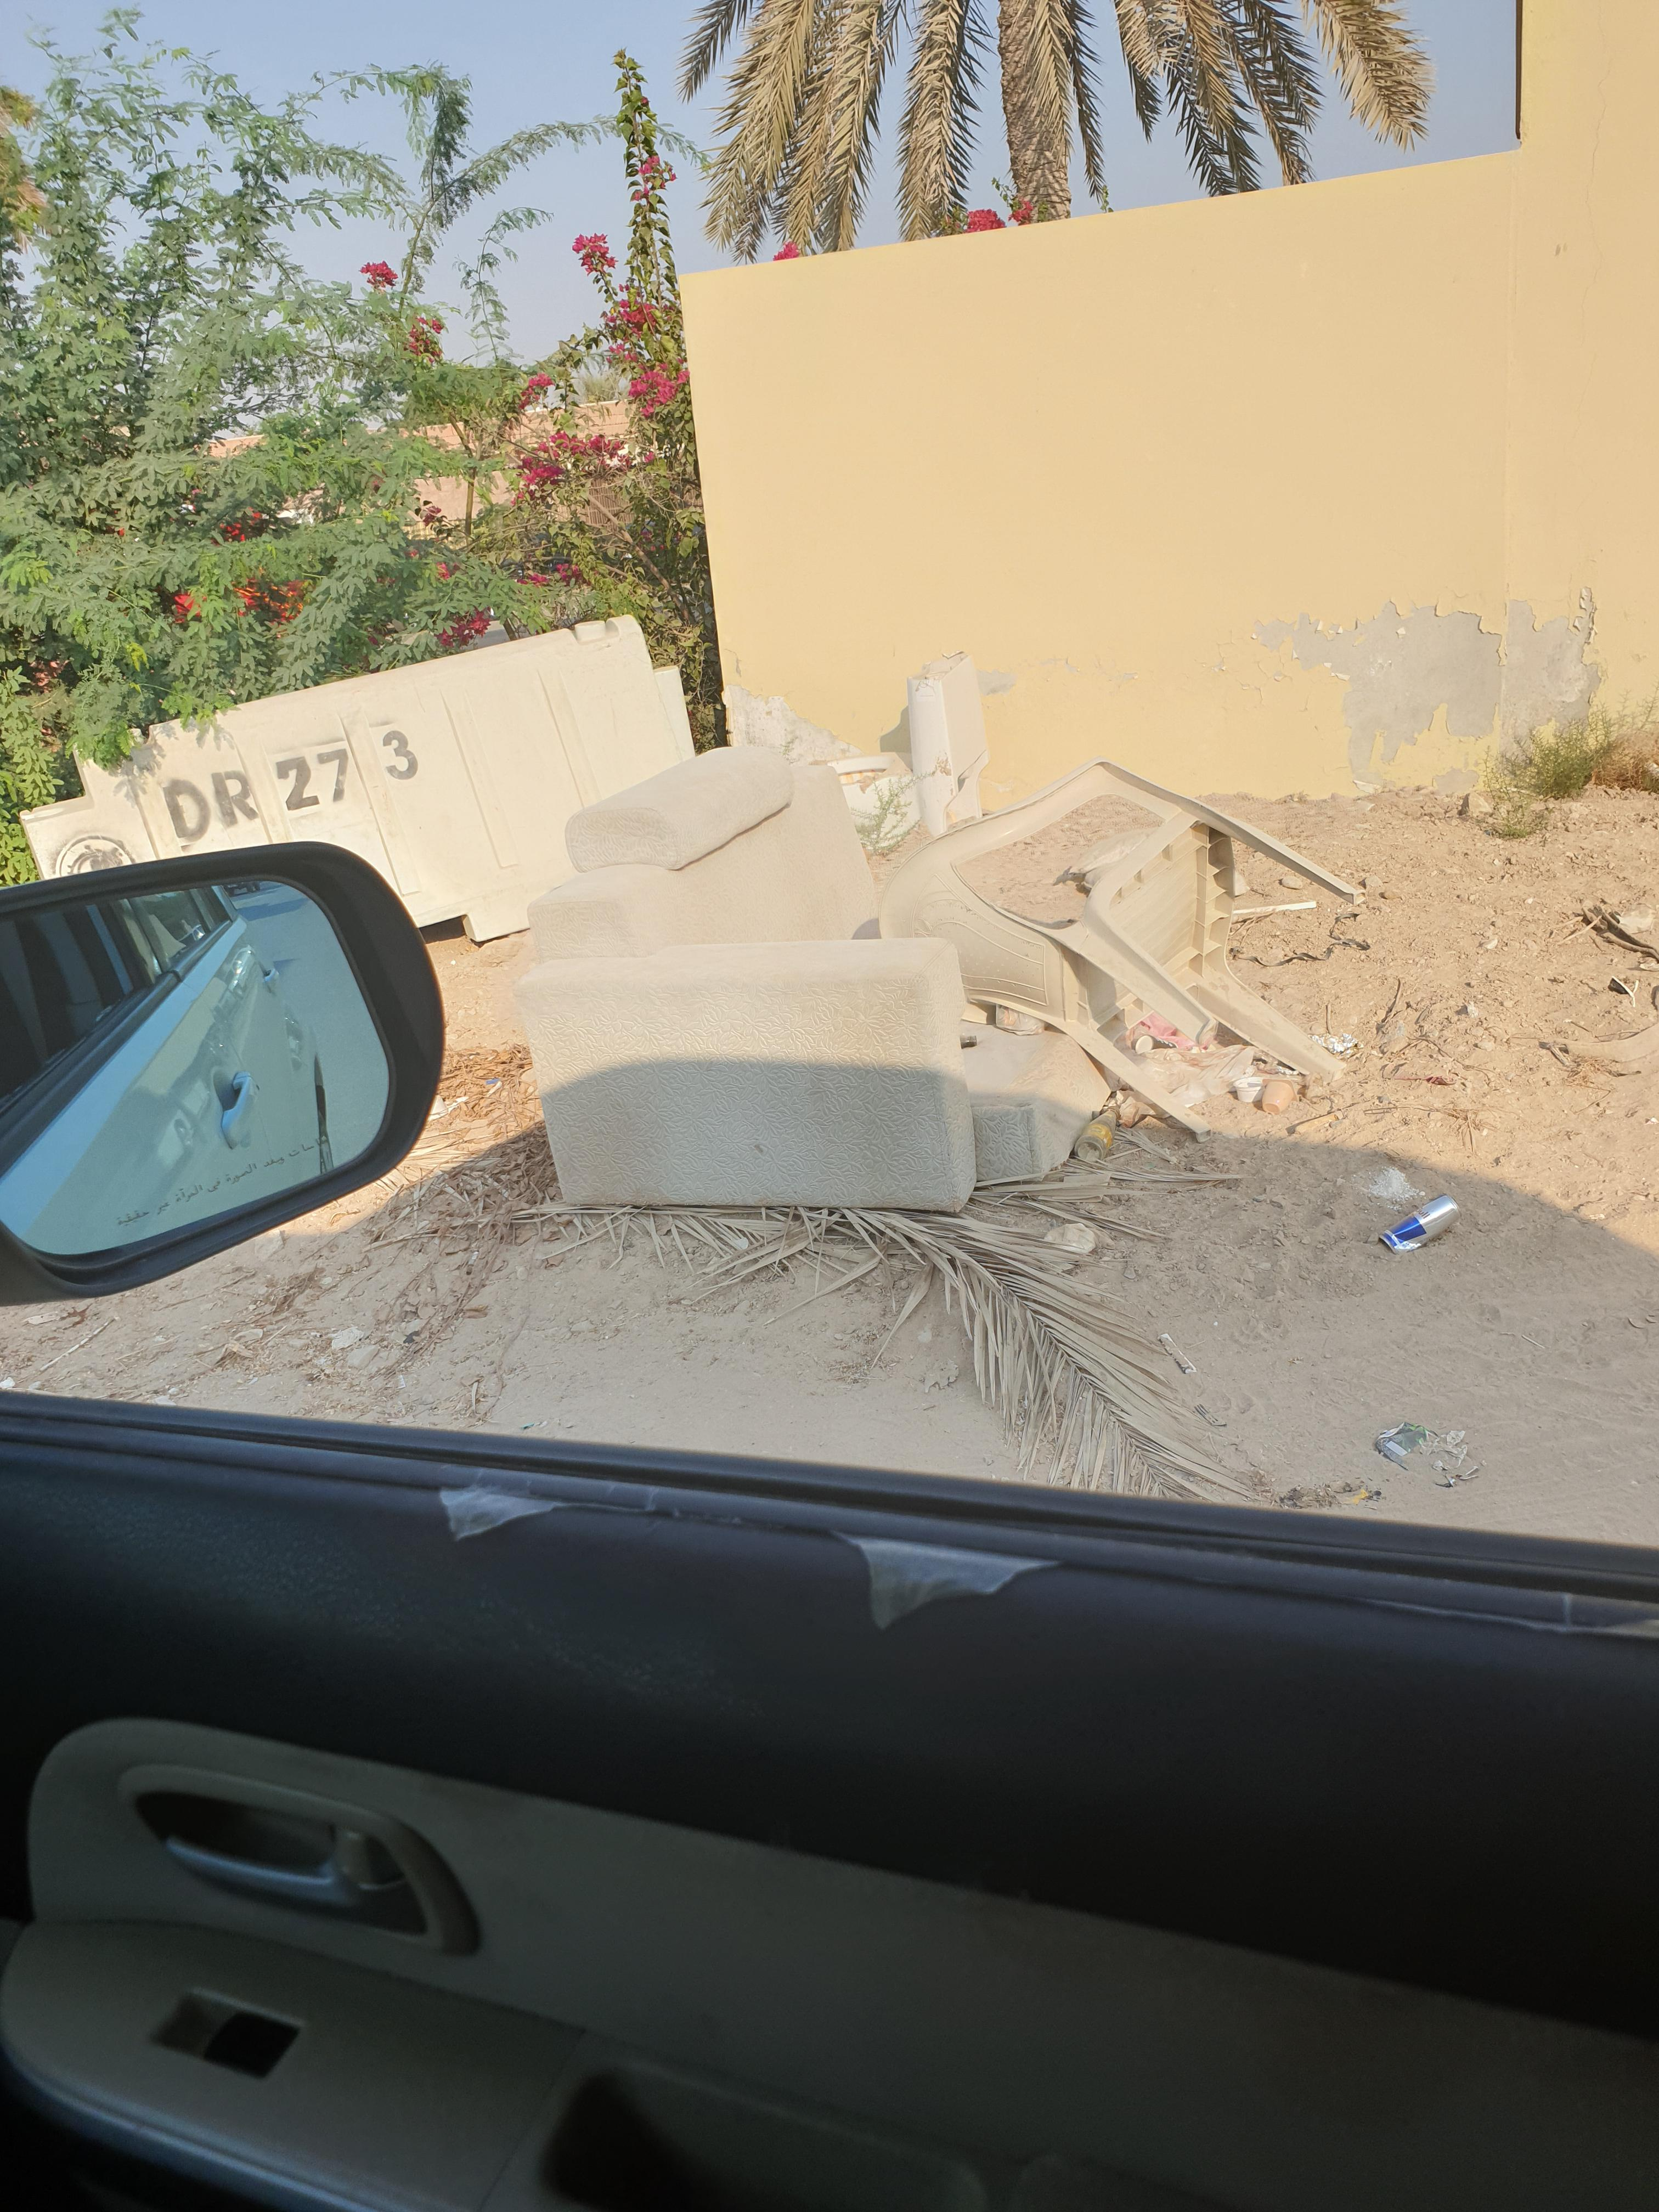fallen_trees: (805, 1211, 1328, 1435), (903, 1261, 1380, 1442), (566, 1221, 868, 1310)
uncollected_waste: (579, 773, 1509, 1251)
